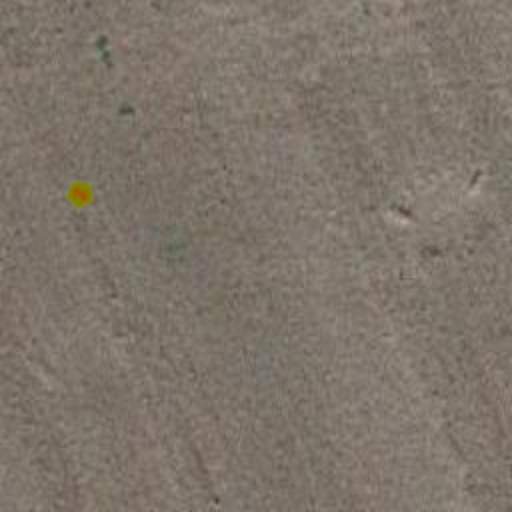pentagon: (62, 176, 98, 212)
